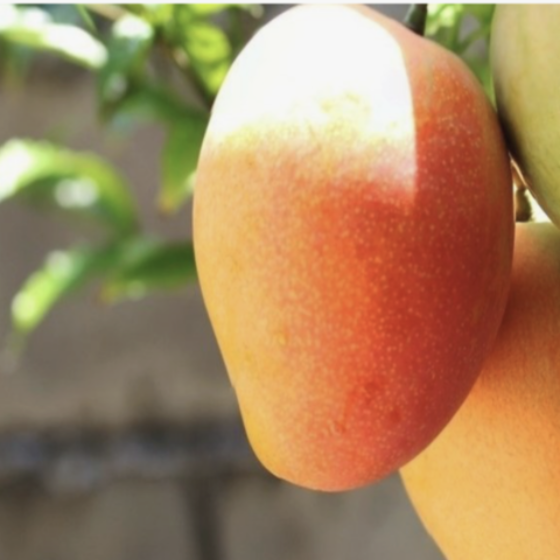mango: (164, 1, 560, 540)
